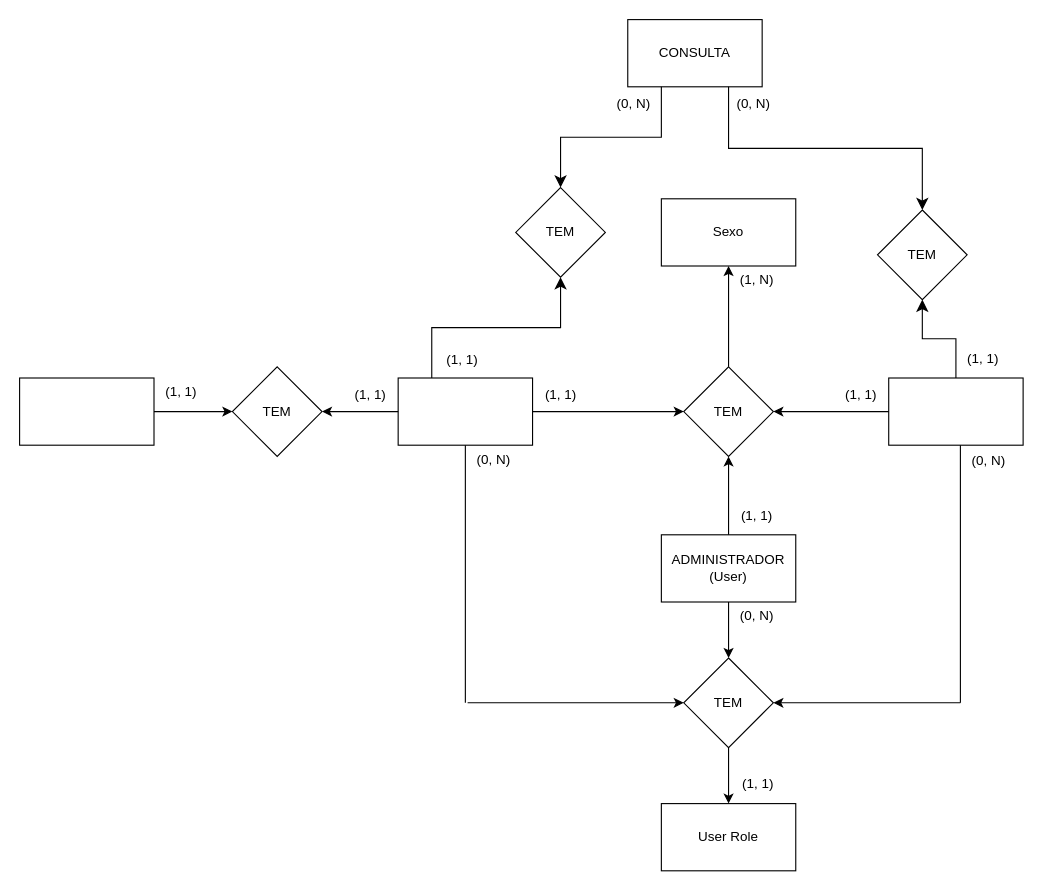
This 1043x890 diagram has some shape labels left out. Each missing label, with the centre of its shape:
CRM: pixel 86 411
MEDICO (User): pixel 465 411
PACIENTE (User): pixel 955 411
